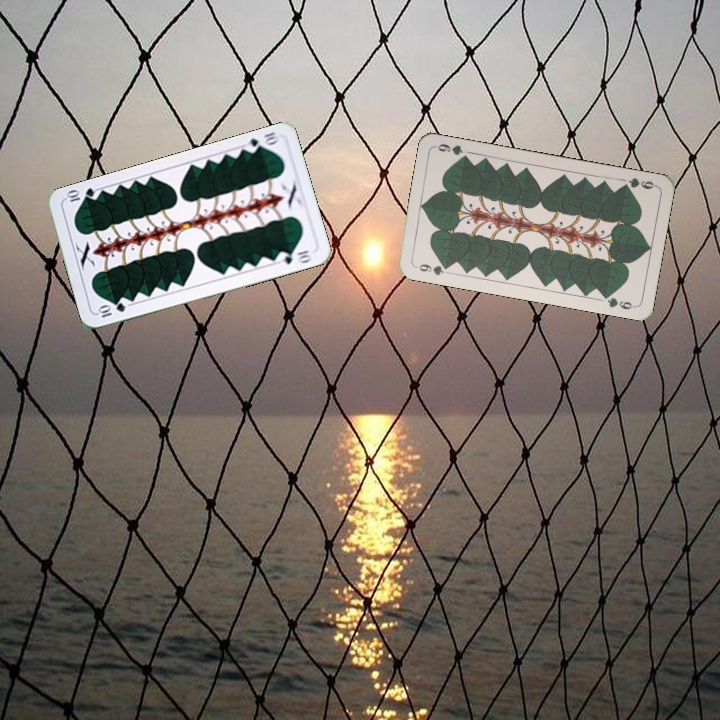G10: (243, 128, 282, 155), (94, 299, 128, 320)
G9: (617, 174, 659, 192), (411, 260, 453, 278)
